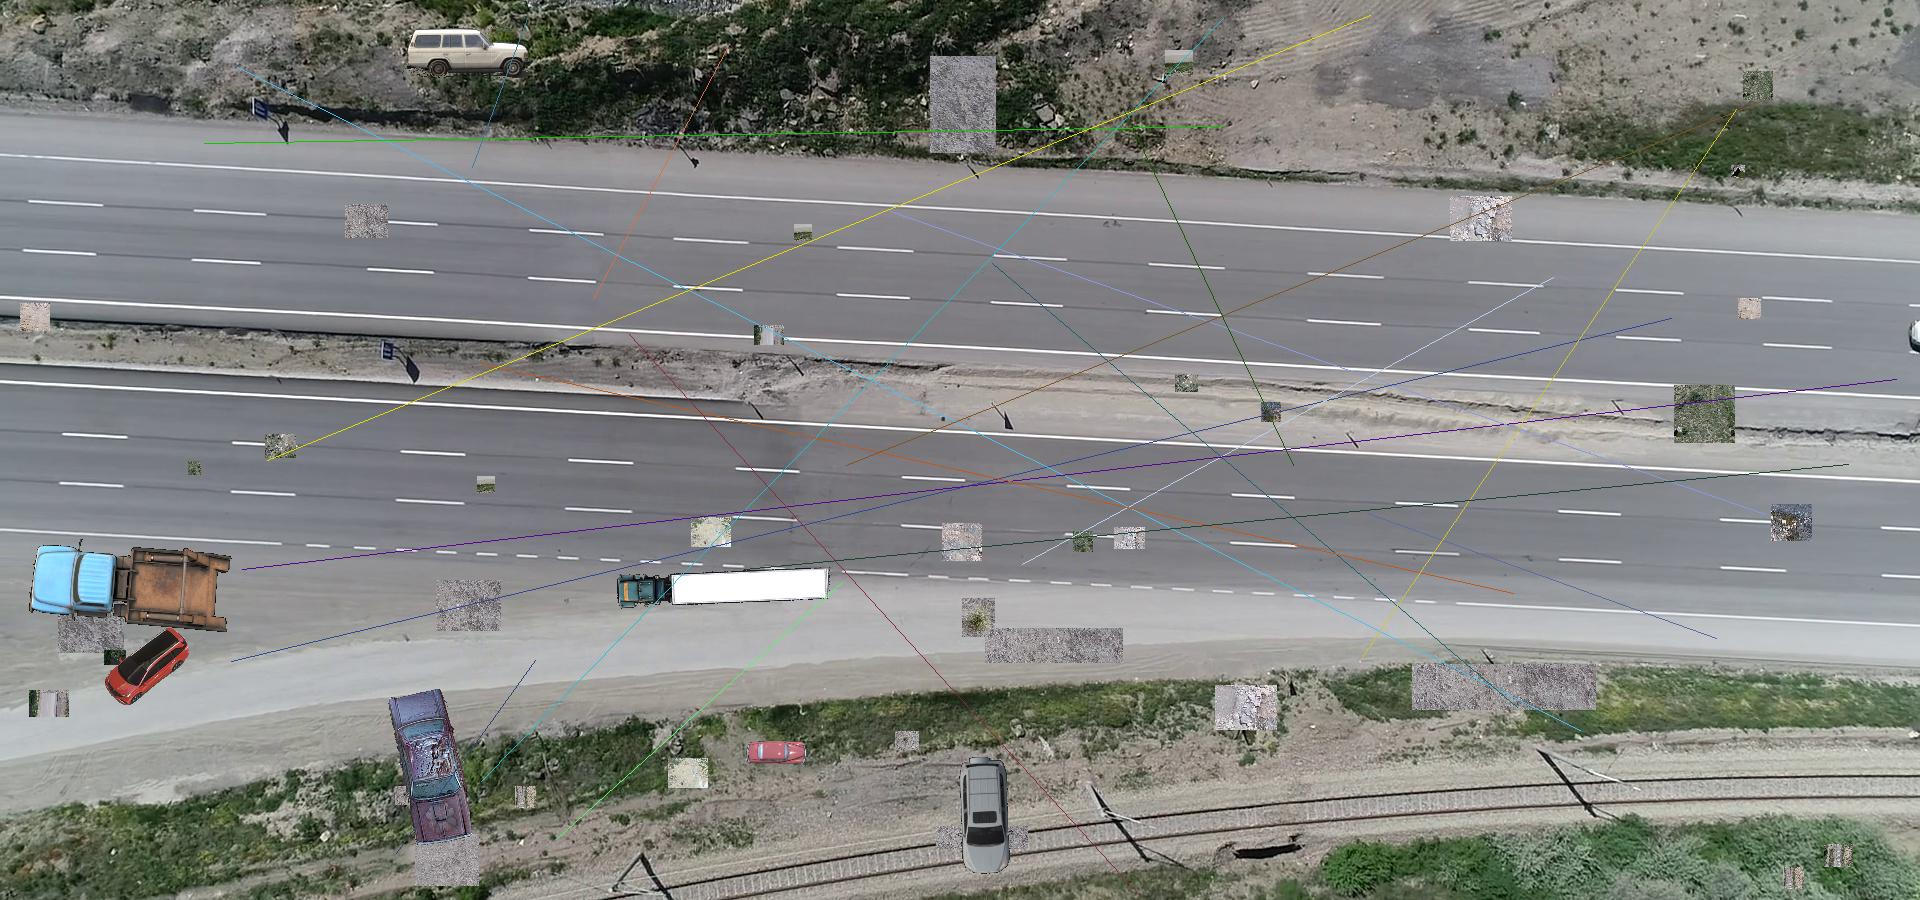arac: (23, 539, 233, 634), (384, 689, 478, 845), (613, 566, 834, 609), (93, 628, 190, 707), (954, 757, 1014, 874), (402, 27, 531, 78), (746, 740, 809, 767)
